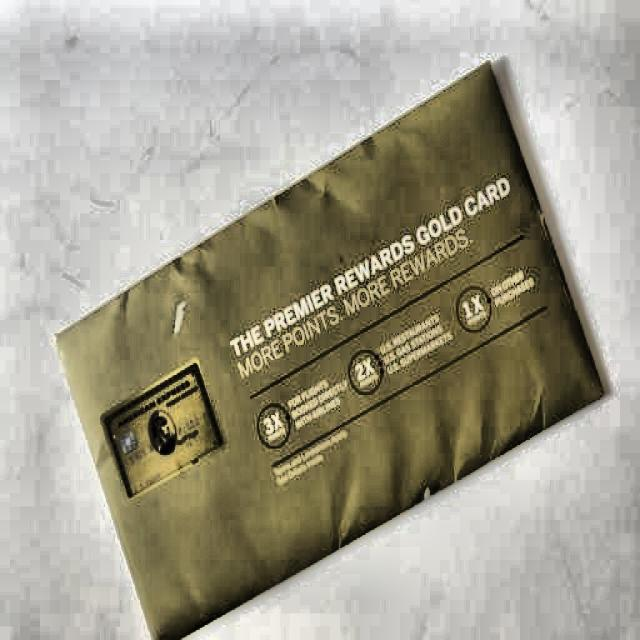paper: (49, 56, 610, 630)
